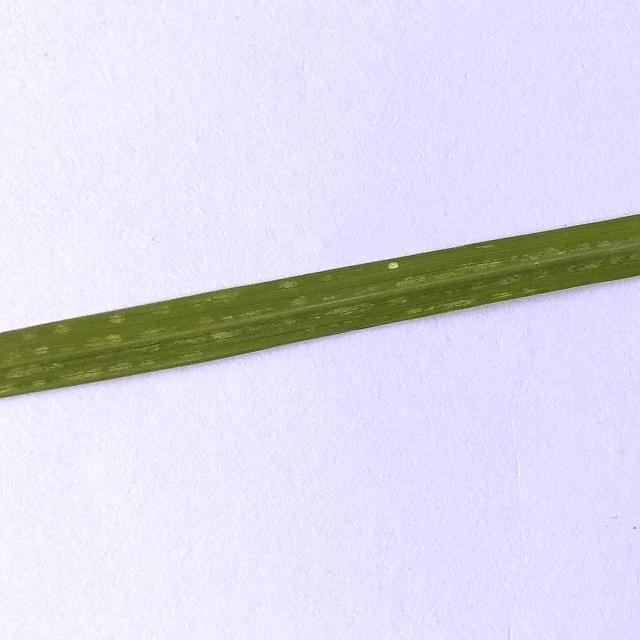Blast: (386, 262, 404, 274)
